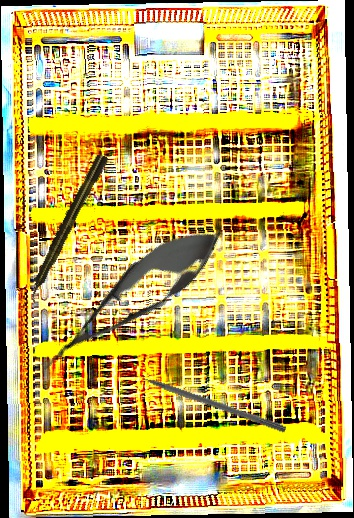Handpiece: (23, 152, 110, 304)
Micro Scissor: (26, 209, 236, 389)
Pusher: (121, 365, 288, 434)
